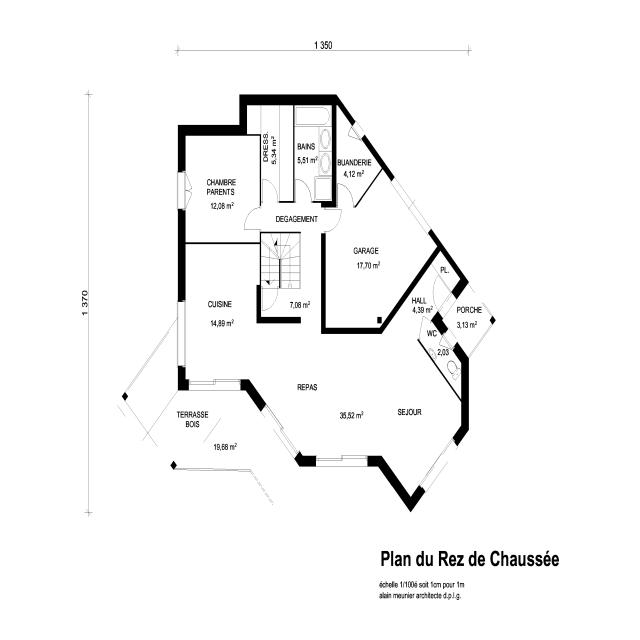door: (241, 203, 263, 233), (177, 170, 192, 212), (336, 180, 356, 208), (432, 273, 448, 307), (322, 207, 342, 234), (260, 176, 279, 204), (294, 176, 313, 204), (260, 286, 278, 314)
window: (392, 172, 430, 235), (186, 375, 243, 392), (312, 452, 370, 468), (177, 295, 189, 368), (177, 169, 191, 213)
zone: (324, 204, 411, 332), (183, 240, 259, 370), (183, 132, 260, 243), (259, 214, 322, 322), (416, 314, 466, 396), (294, 102, 333, 202), (258, 104, 292, 202)
